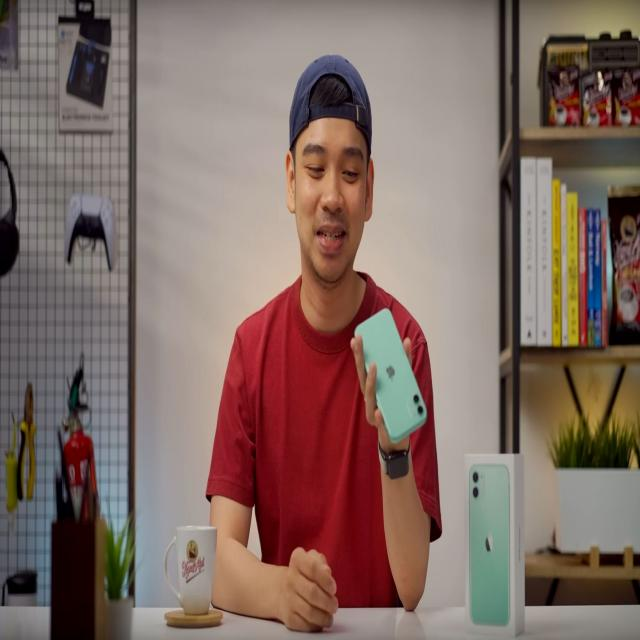non-cheating: (344, 306, 445, 457)
